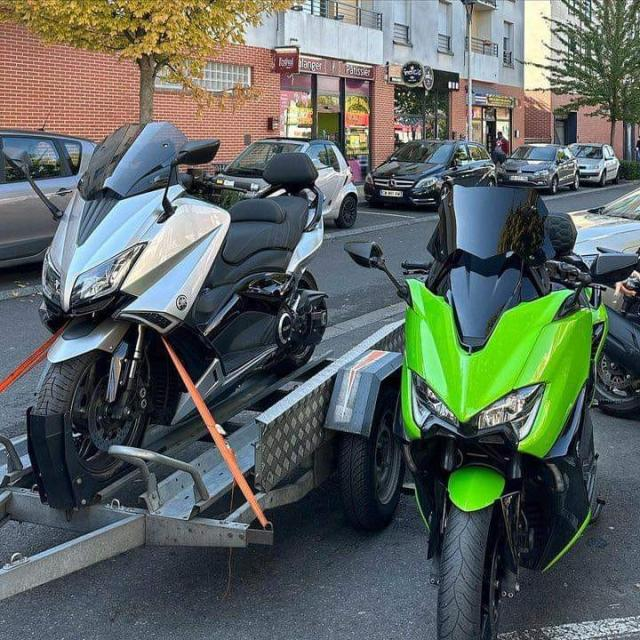Car: (364, 140, 497, 205), (501, 145, 580, 192), (571, 142, 621, 185)
Motorcycle: (347, 186, 639, 640), (27, 122, 328, 514)
